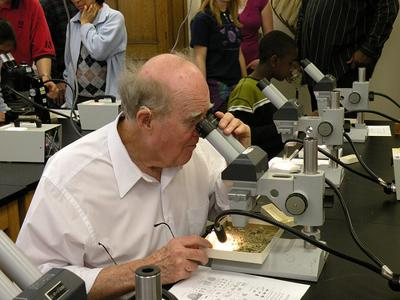person: (14, 54, 251, 300)
